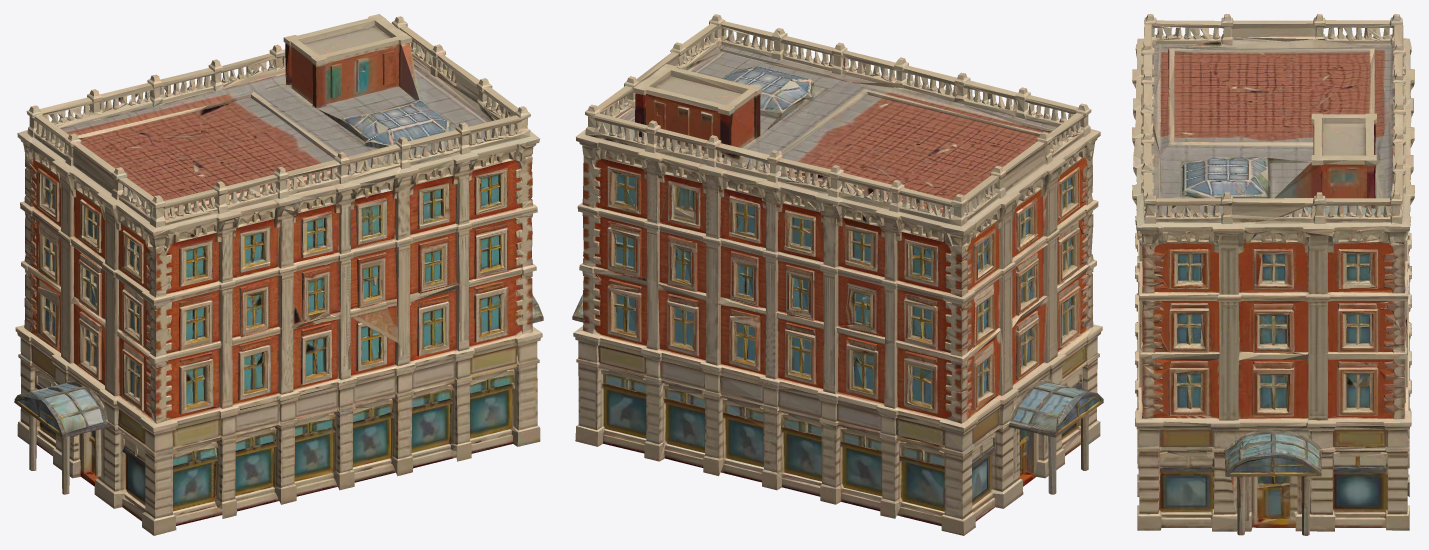
File: store_2x4.glb
The picture shows the model from 3 angles, left to right: view 1: azimuth 30°, elevation 25°; view 2: azimuth 150°, elevation 25°; view 3: azimuth 270°, elevation 25°; orthographic projection.
Parts seen in each view (by area): view 1: normalize; view 2: normalize; view 3: normalize.
Part boxes in pixels (x1,y1,x2,y2): normalize: (14, 14, 543, 535); normalize: (572, 14, 1103, 535); normalize: (1132, 14, 1414, 535).
Size of the model in its own units: 1 by 0.695 by 0.5086.
Materials: 1 (1 with a texture image).
